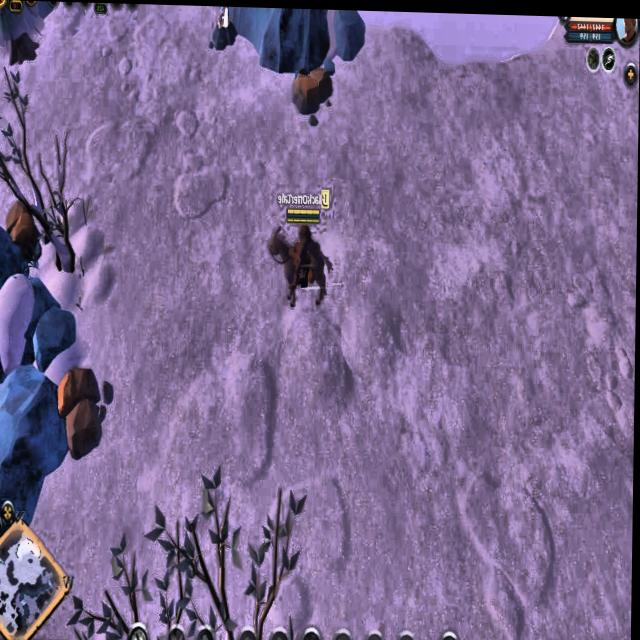copperore: (210, 5, 236, 53)
limestone: (58, 366, 114, 460), (5, 197, 42, 269), (288, 63, 335, 114)
